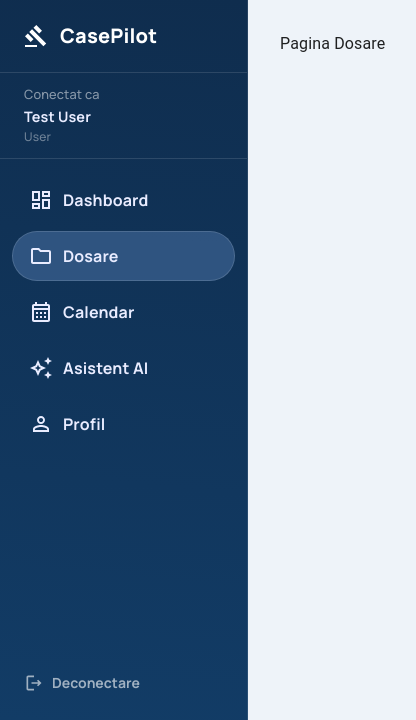
WorkspaceLayout › afișează meniul și schimbă ruta la click pe item
The width and height of the screenshot is (416, 720).
Expected: the text "Pagina Dosare" is shown, [280,34,385,53]
Expected: the text "Calendar" is shown, [63,301,134,323]
Click the link "Calendar" at (82, 312), box [29,300,134,324]
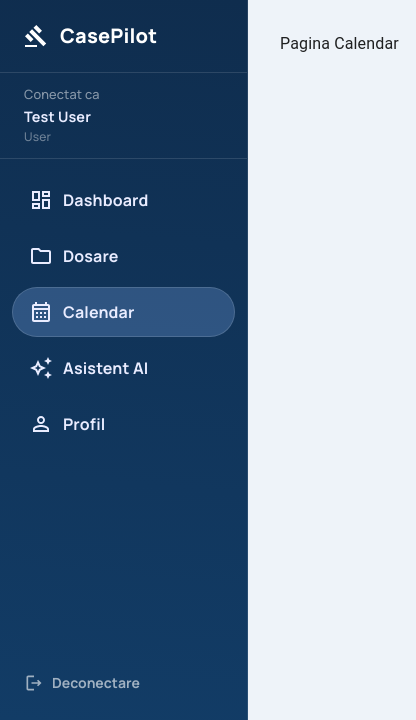
Result: the text "Pagina Calendar" is shown at [280,34,399,53]
